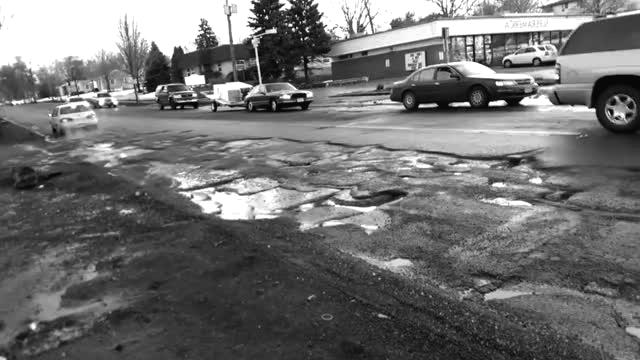Pothole: (194, 168, 426, 232), (472, 272, 640, 360), (0, 294, 142, 360), (476, 144, 576, 214), (160, 137, 250, 155)
